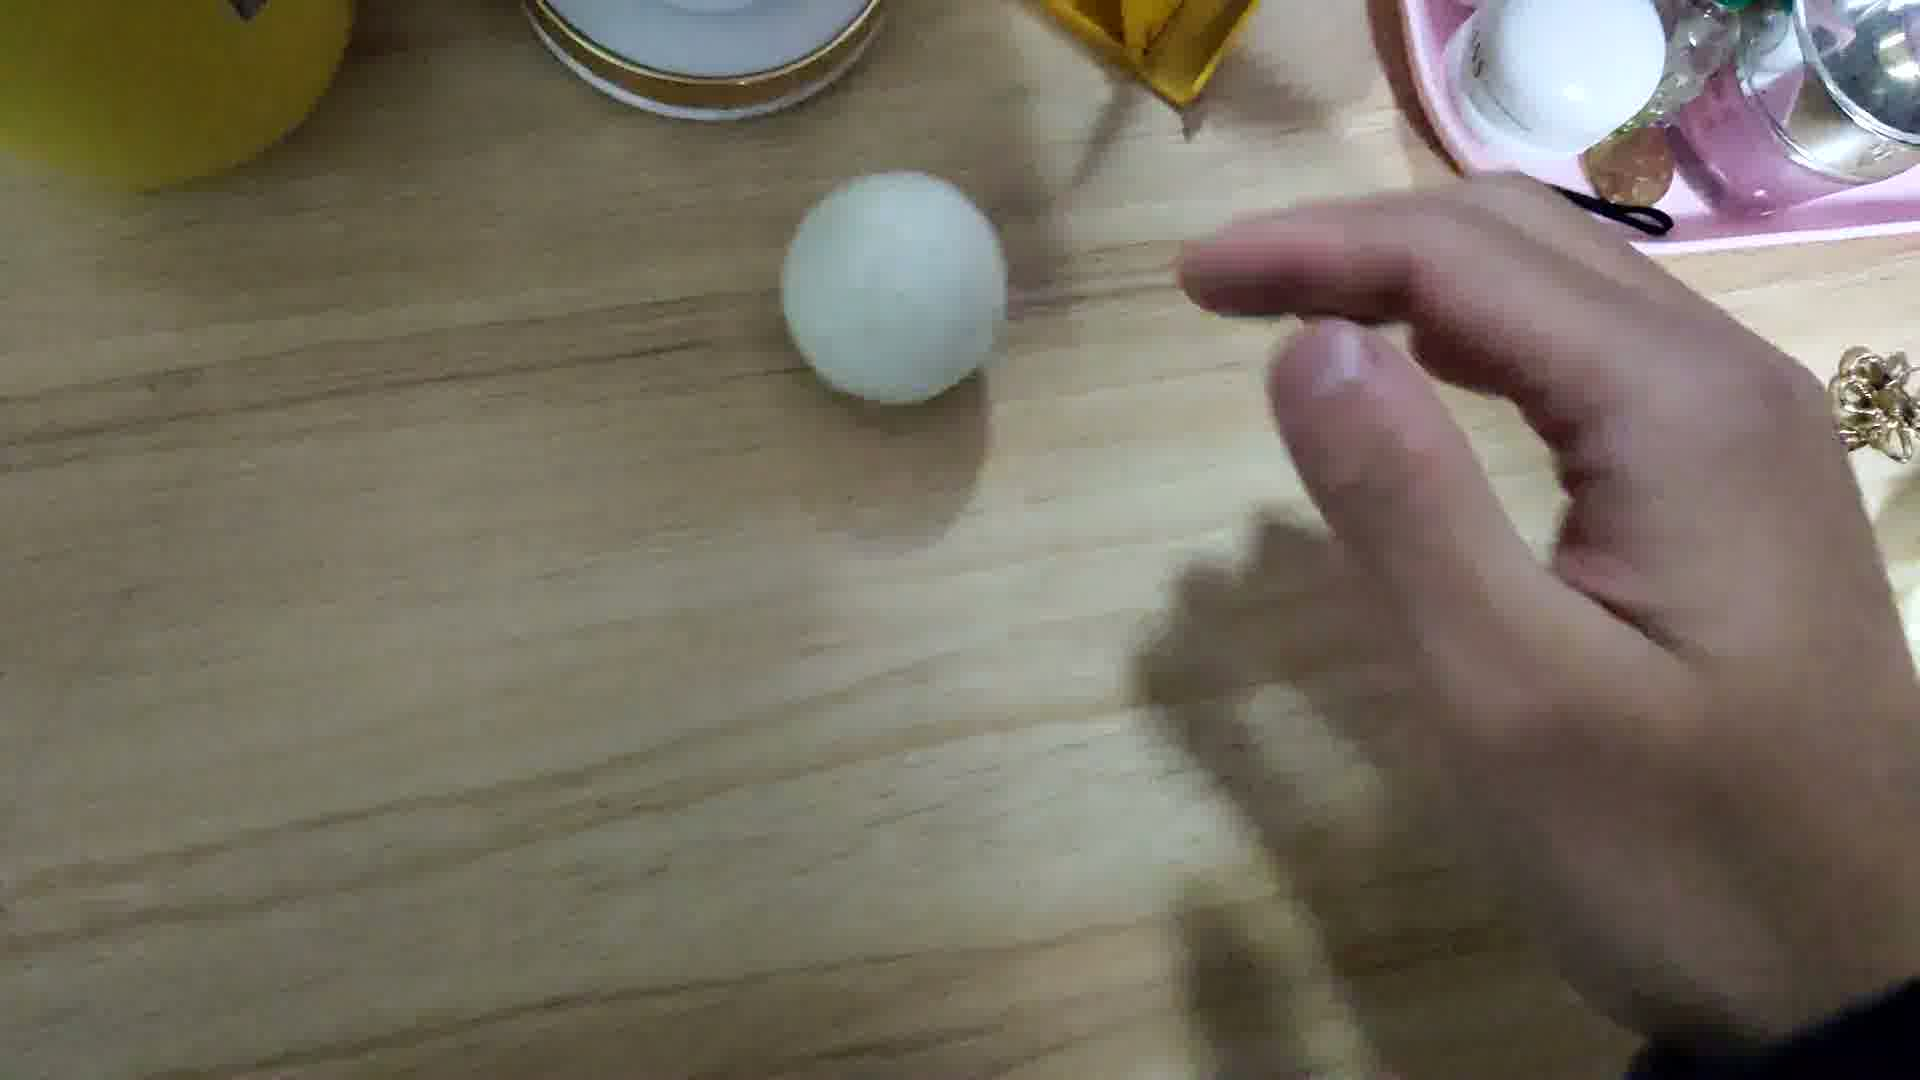Ball: (783, 169, 1001, 407)
